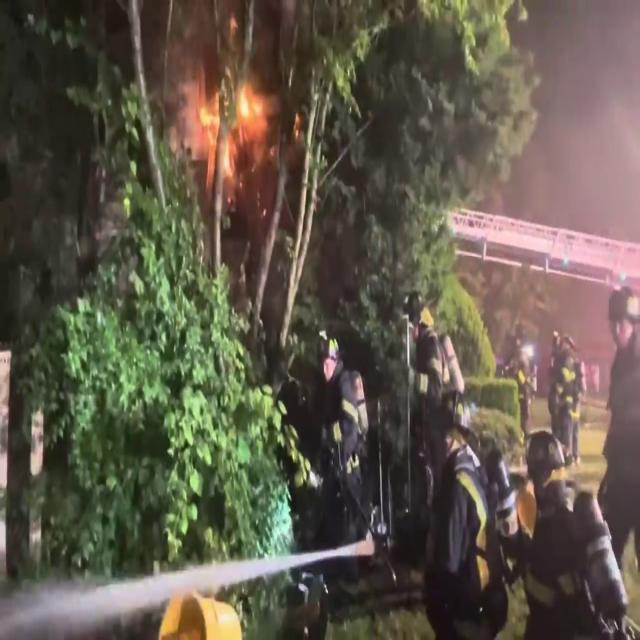Fire: (193, 26, 262, 176)
